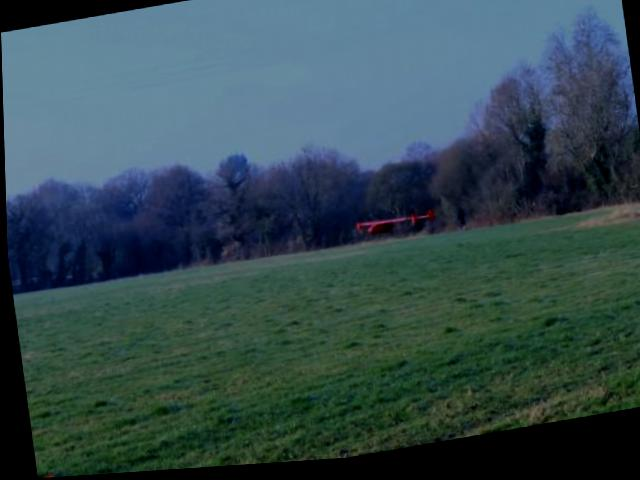uav: (348, 211, 433, 245)
